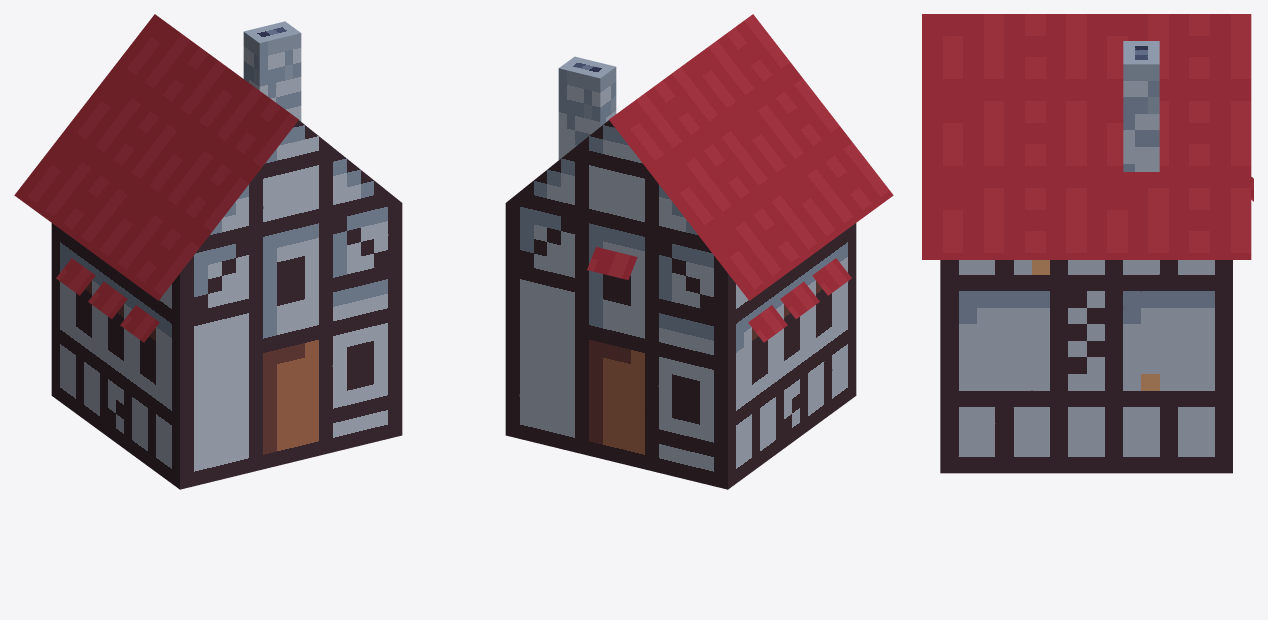
The model's file is block5.gltf.
3 renders of one model, left to right at view 1: azimuth 30°, elevation 25°; view 2: azimuth 150°, elevation 25°; view 3: azimuth 270°, elevation 25°, orthographic. The views are drawn at different scales.
Parts seen in each view (by area): view 1: cube; view 2: cube; view 3: cube.
Part boxes in pixels (box(x1,y1,x2,y2)): cube: box(14, 14, 402, 489); cube: box(505, 14, 893, 489); cube: box(922, 14, 1253, 473).
Bounding box in the file's own units: 1.27 × 2 × 1.13.
1 material, 1 textured.
